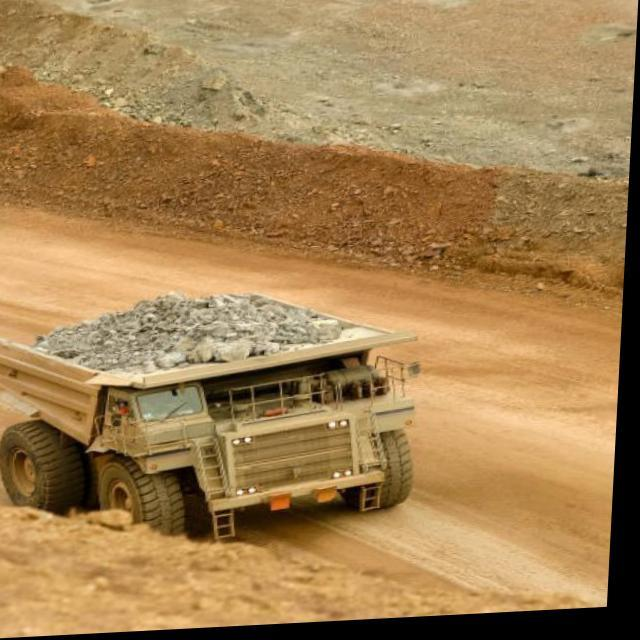uncovered: (0, 281, 419, 440)
